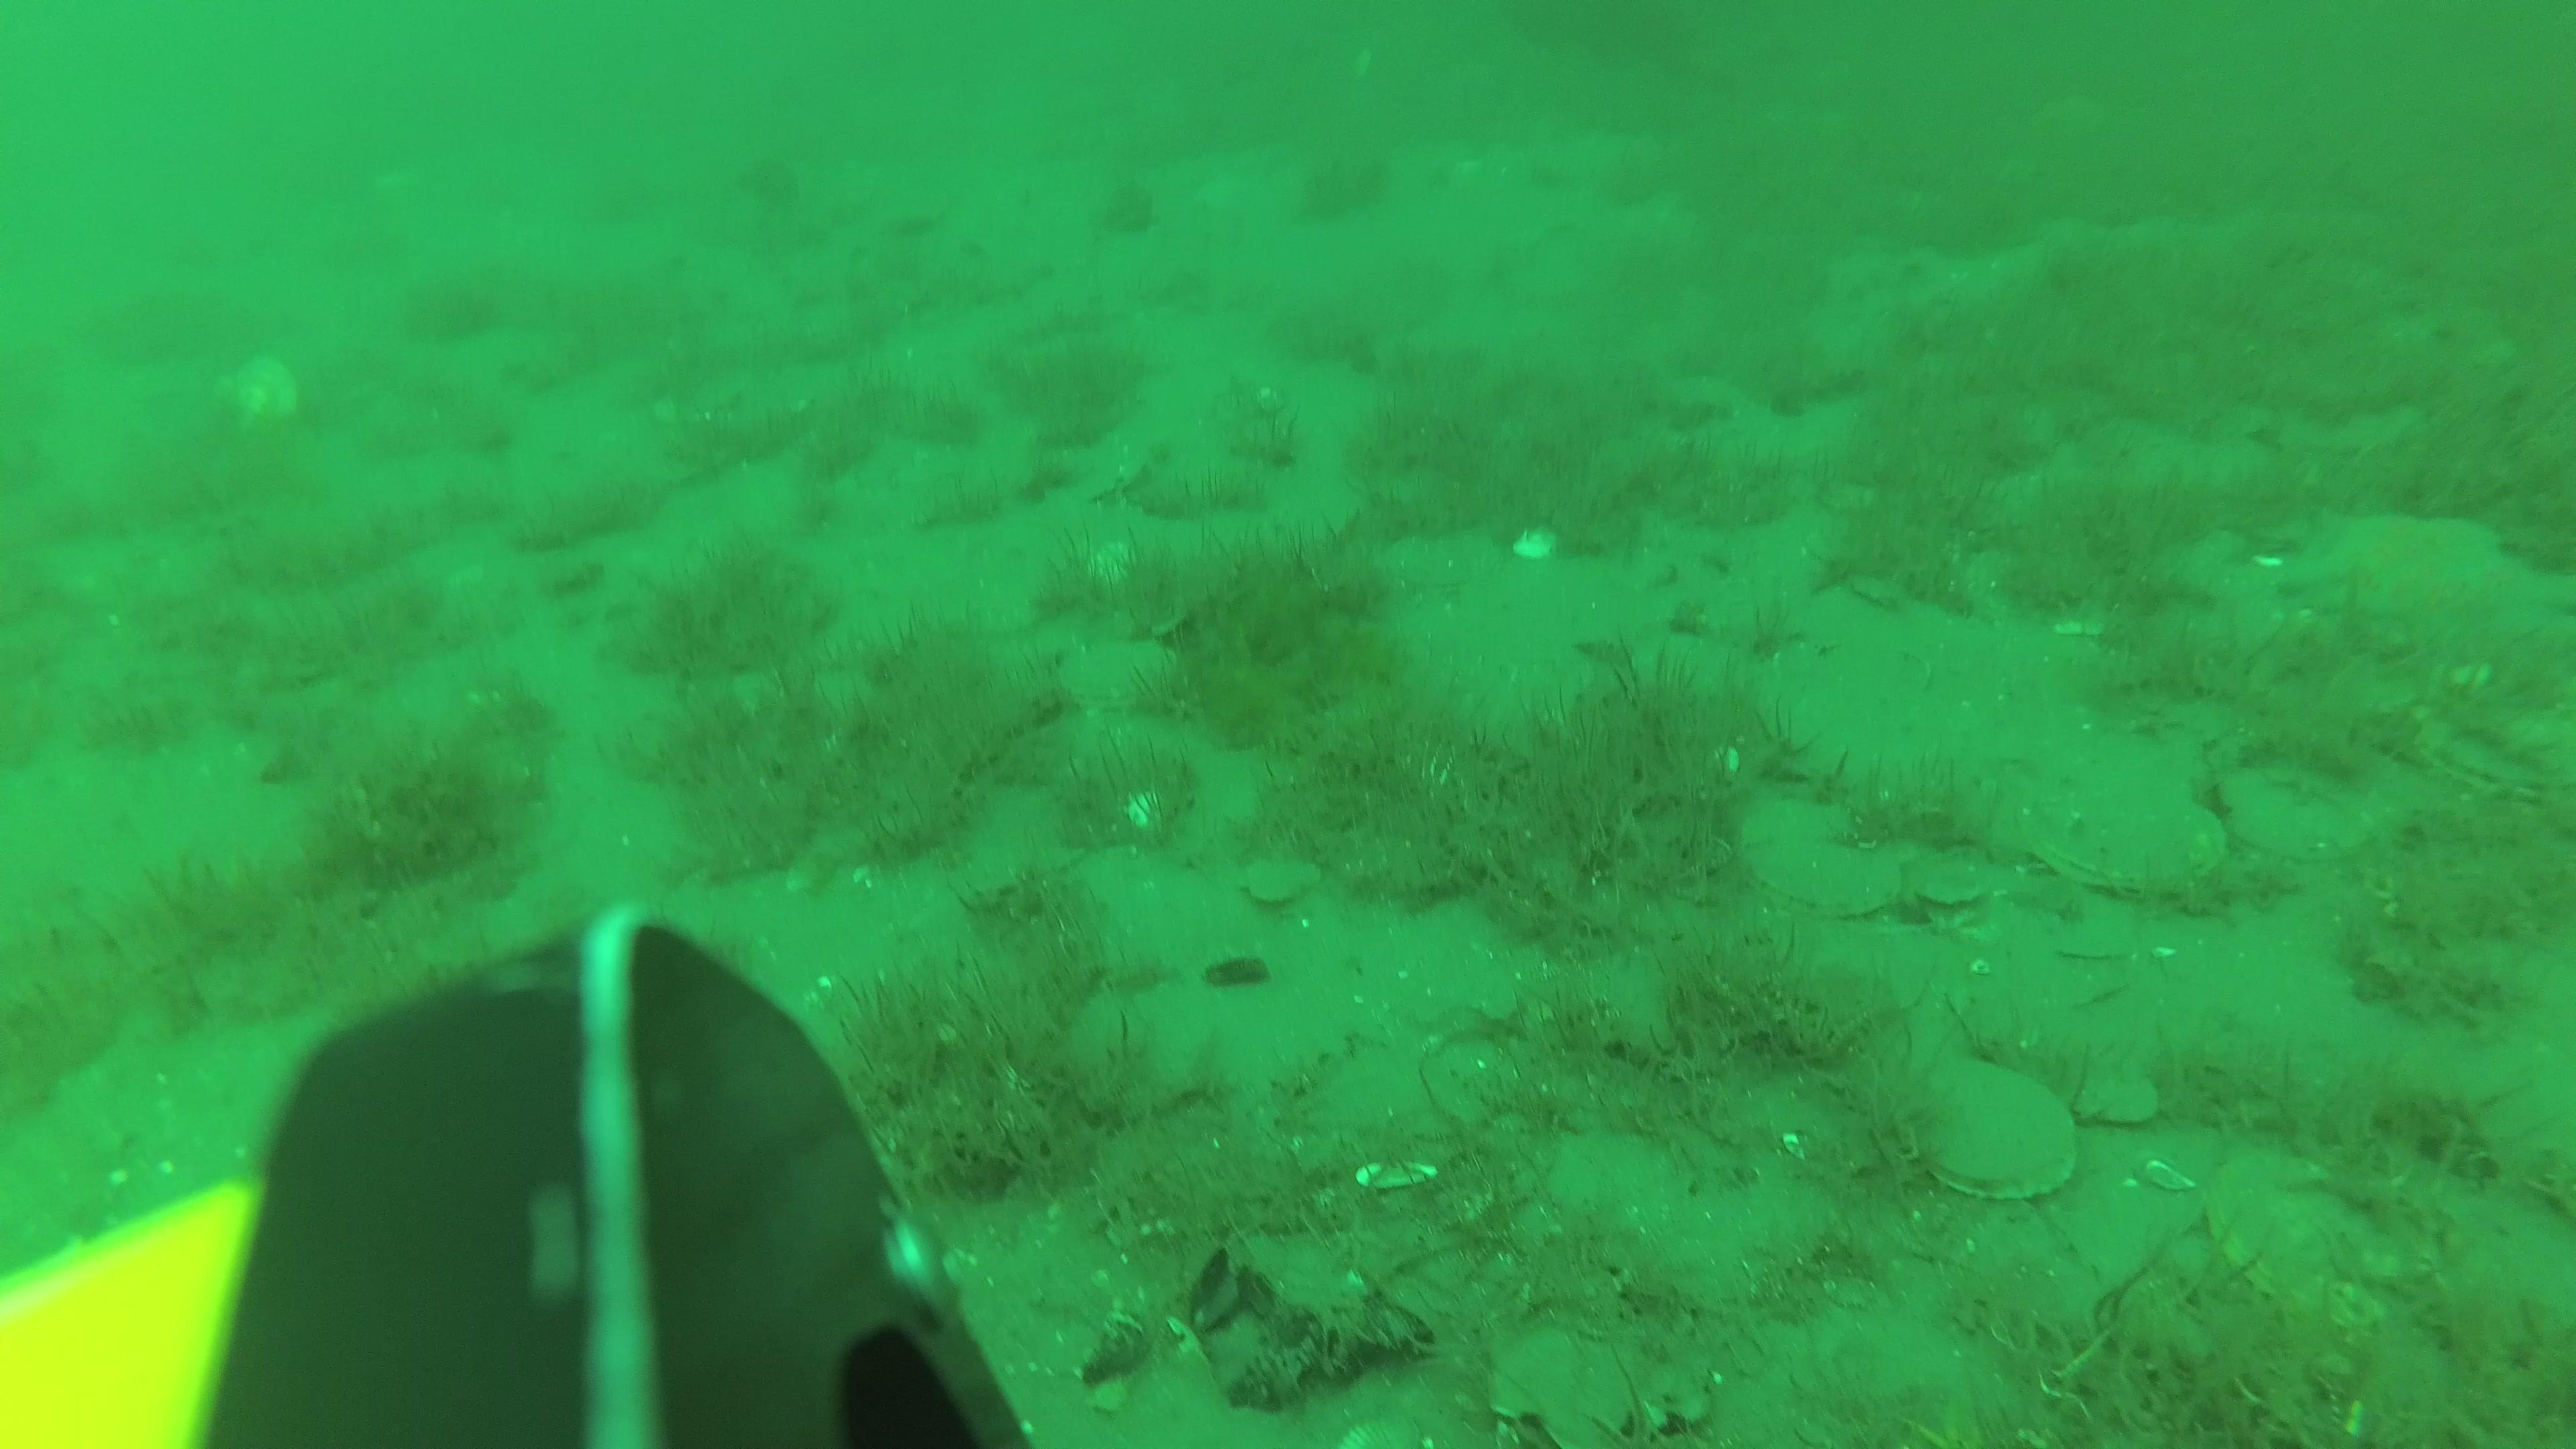scallop: (2201, 1143, 2397, 1318), (1902, 1062, 2075, 1198), (2035, 780, 2224, 895), (2420, 702, 2576, 800), (2233, 770, 2365, 862), (1759, 833, 1902, 916), (1058, 635, 1177, 711), (214, 356, 303, 433), (1385, 536, 1479, 598), (2084, 1069, 2164, 1125), (1238, 858, 1323, 909), (1921, 872, 1982, 913)
starfish: (2284, 508, 2514, 635), (1330, 1417, 1421, 1449)
